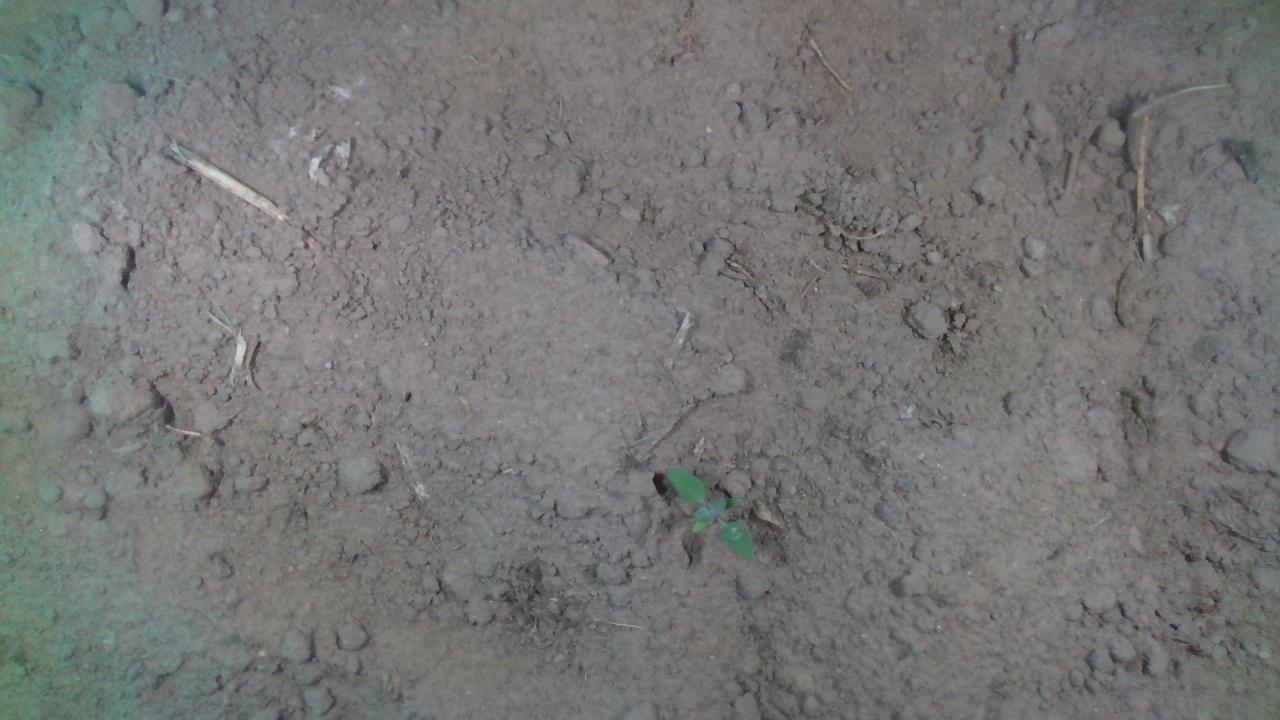weed: (662, 463, 756, 561)
